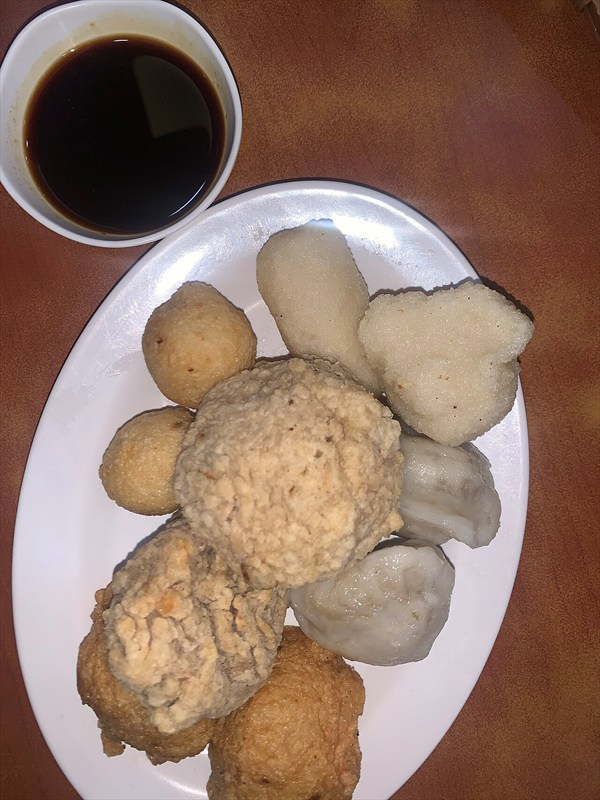Pempek: (31, 159, 527, 728)
